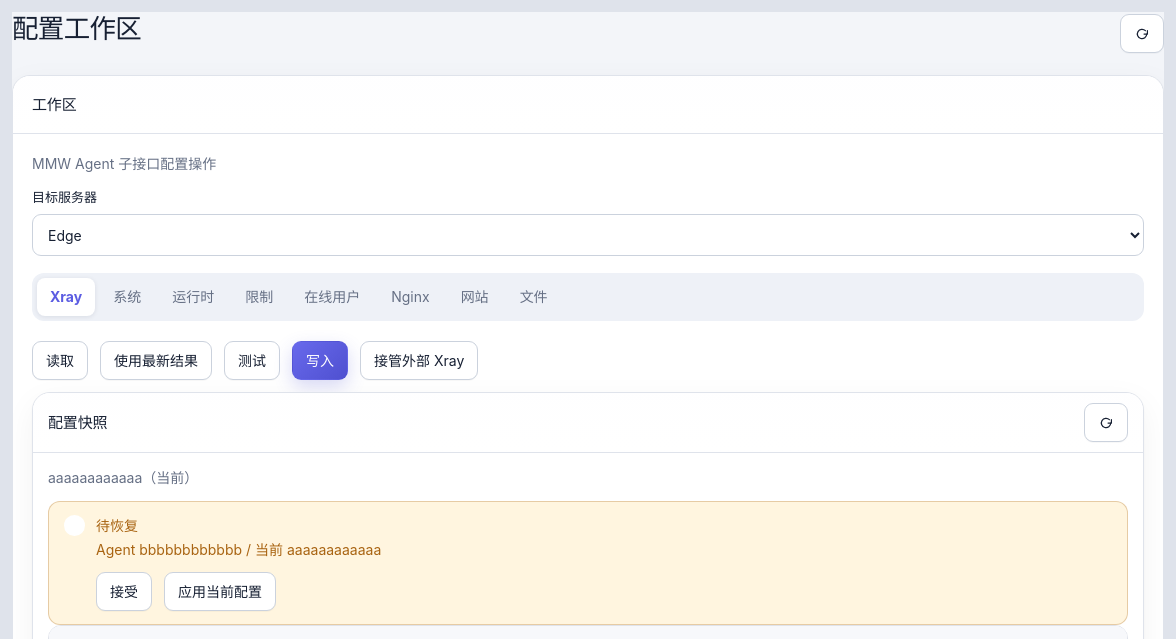
React configuration workspace › does not fall back to an older successful system GET while a newer read is pending
The image size is (1176, 639).
Click the tab "系统".
click(127, 297)  # box [100,278,154,316]
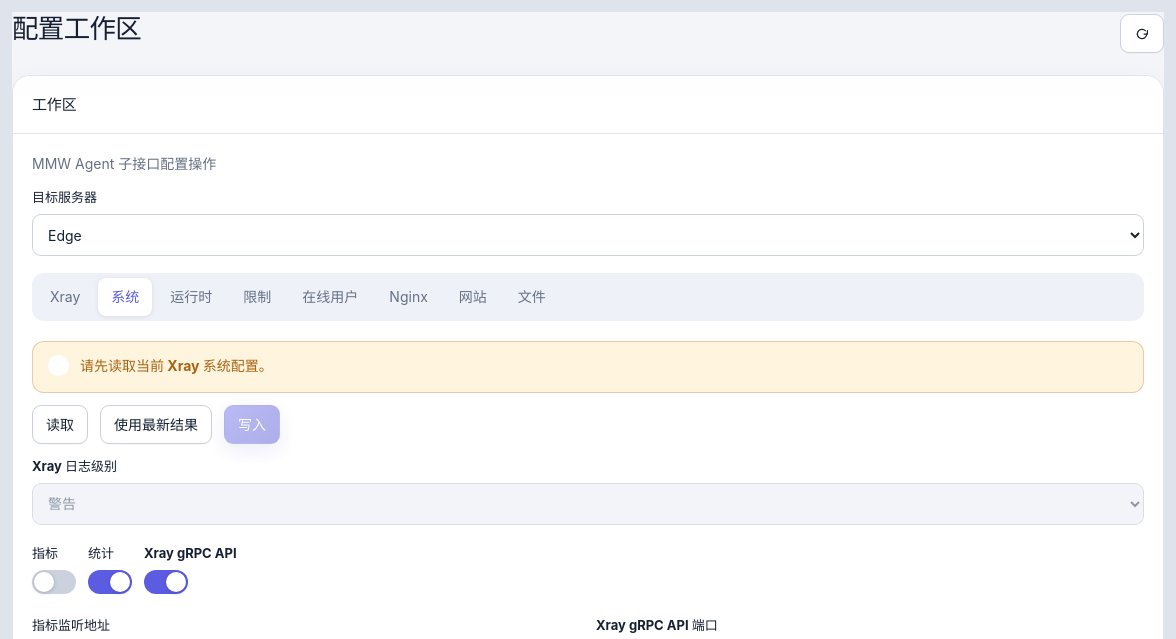
Click the button "使用最新结果".
click(156, 424)  # box [100,405,212,444]
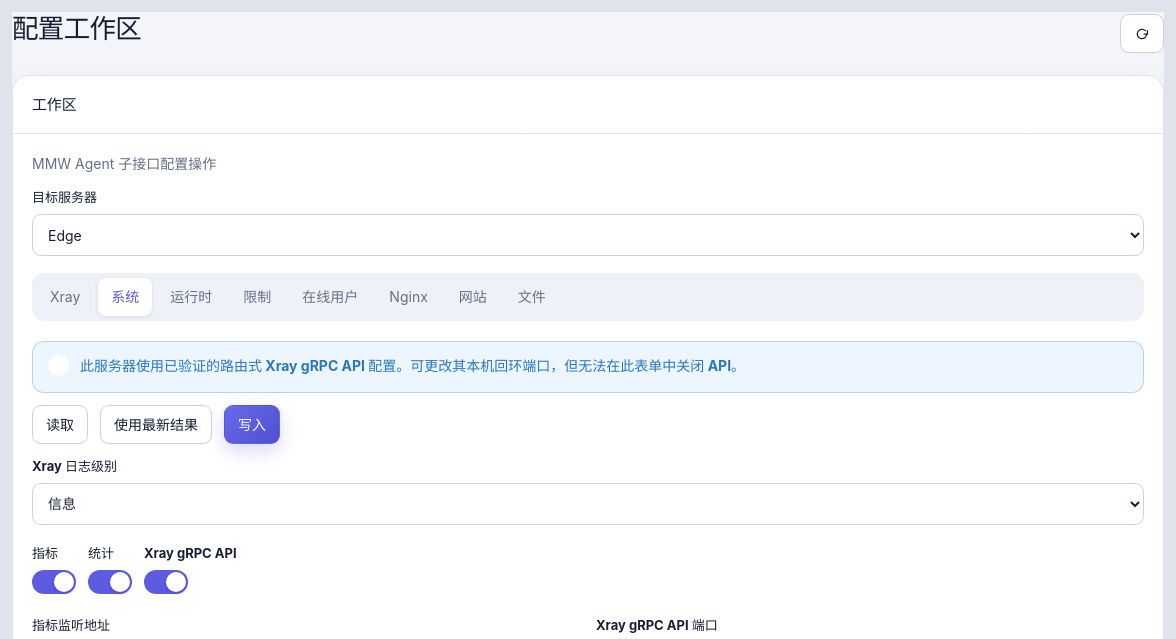
Click the button "读取".
click(60, 424)  # box [32,405,88,444]
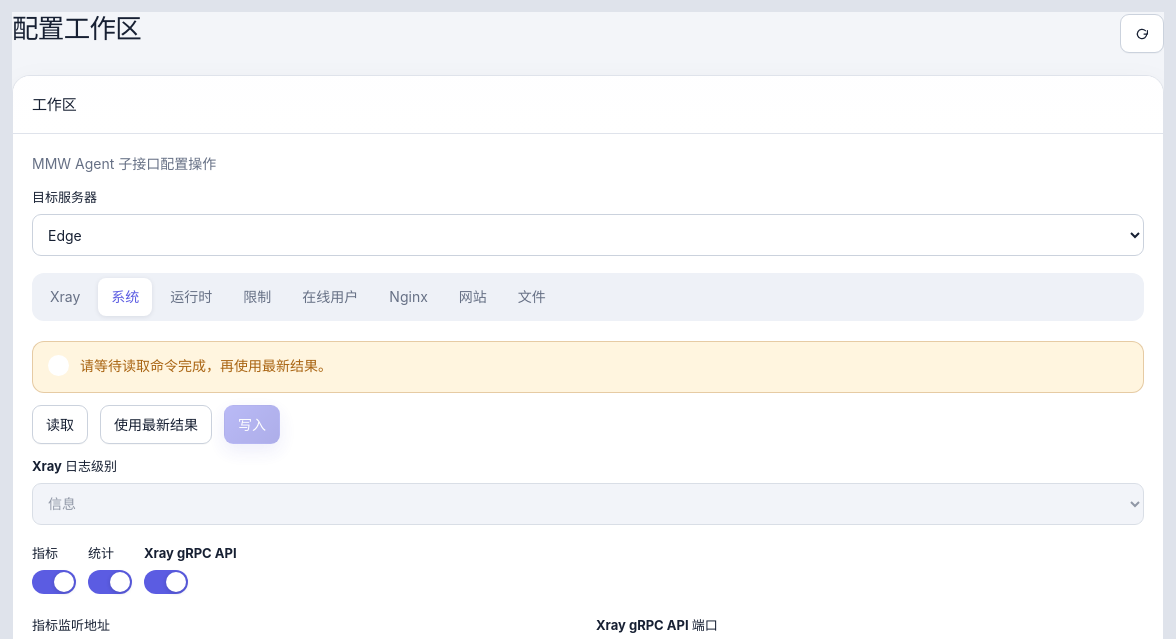
Click the button "使用最新结果".
click(156, 424)  # box [100,405,212,444]
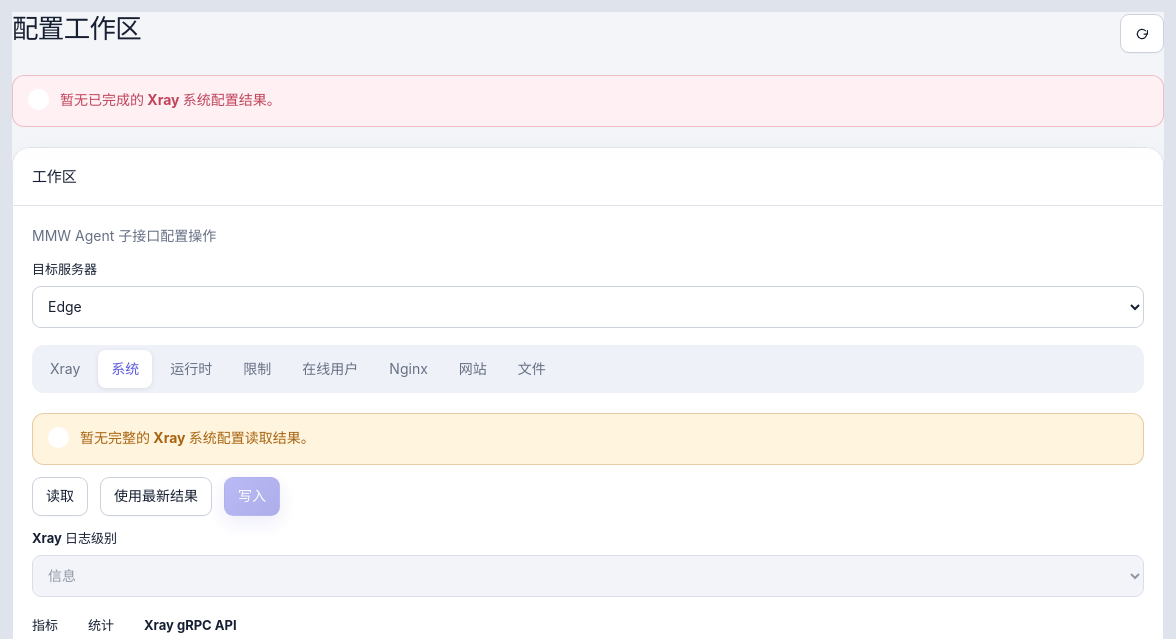
Check: the button "写入" is disabled, box [224,476,280,516]
Check: the text "暂无已完成的 Xray 系统配置结果。" is shown, box [60,91,281,108]
